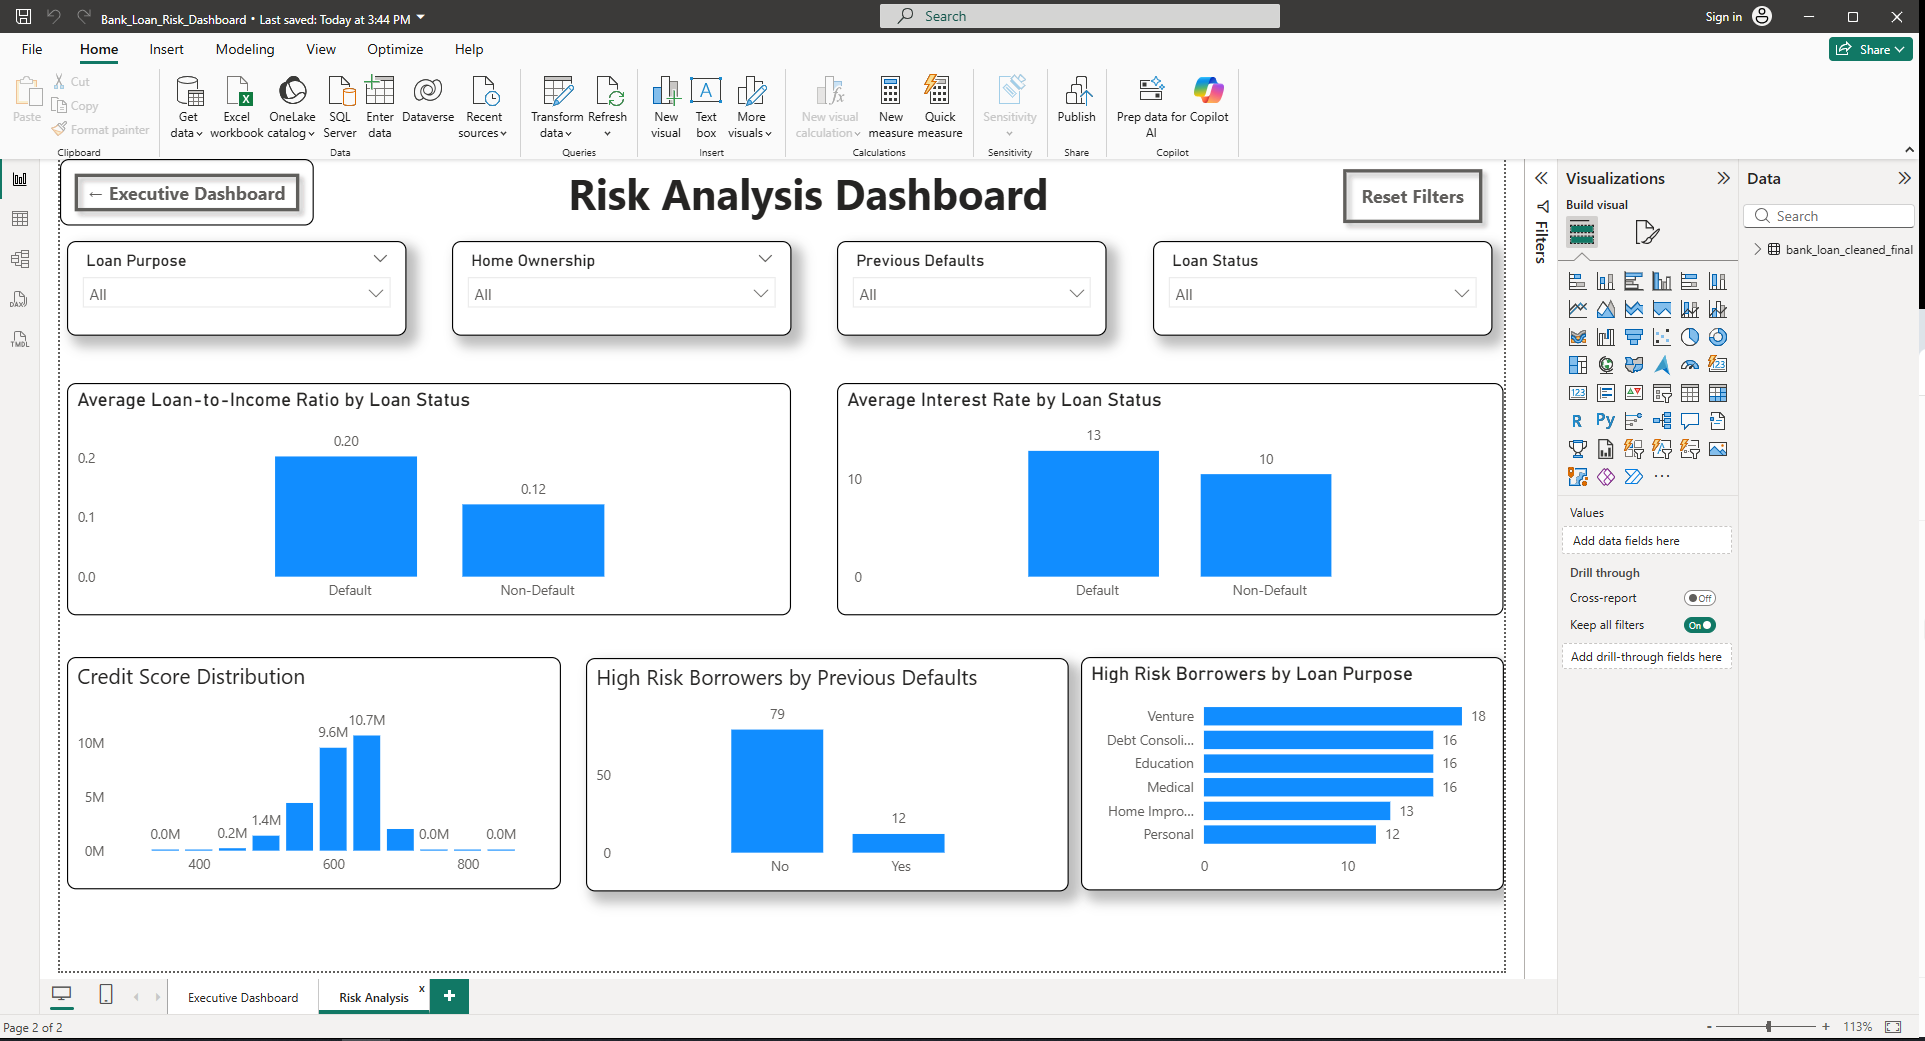

The dashboard page shown, as its layout file describes it:
{"tool":"powerbi","page":{"name":"Risk Analysis","canvas":[1280,720],"ordinal":1},"visuals":[{"type":"textbox","box":[327.2,0,673,59.4],"z":0},{"type":"slicer","fields":{"Values":["bank_loan_cleaned_final.loan_purpose"]},"box":[6.2,72.7,300.6,84.2],"z":1},{"type":"slicer","fields":{"Values":["bank_loan_cleaned_final.home_ownership"]},"box":[347.6,72.7,300.6,84.2],"z":2},{"type":"slicer","fields":{"Values":["bank_loan_cleaned_final.previous_defaults"]},"box":[689,72.7,239.4,84.2],"z":3},{"type":"slicer","fields":{"Values":["bank_loan_cleaned_final.loan_status"]},"box":[969.2,72.7,300.6,84.2],"z":4},{"type":"clusteredColumnChart","title":"Average Loan-to-Income Ratio by Loan Status","fields":{"Category":["bank_loan_cleaned_final.loan_status_label"],"Y":["bank_loan_cleaned_final.Average Loan-to-Income Ratio"]},"box":[6.2,198.6,642,205.7],"z":5},{"type":"clusteredColumnChart","title":"Average Interest Rate by Loan Status","fields":{"Category":["bank_loan_cleaned_final.loan_status_label"],"Y":["bank_loan_cleaned_final.Average Interest Rate"]},"box":[689,198.6,591.4,205.7],"z":6},{"type":"clusteredColumnChart","title":"Credit Score Distribution","fields":{"Category":["bank_loan_cleaned_final.credit_score (bins)"],"Y":["Sum(bank_loan_cleaned_final.credit_score)"]},"box":[6.2,441.6,438,205.7],"z":7},{"type":"clusteredColumnChart","title":"High Risk Borrowers by Previous Defaults","fields":{"Category":["bank_loan_cleaned_final.previous_defaults"],"Y":["bank_loan_cleaned_final.High Risk Borrowers"]},"box":[466.4,442.5,428.3,206.6],"z":8},{"type":"clusteredBarChart","title":"High Risk Borrowers by Loan Purpose","fields":{"Category":["bank_loan_cleaned_final.loan_purpose"],"Y":["bank_loan_cleaned_final.High Risk Borrowers"]},"box":[905.3,441.6,375.1,207.5],"z":9},{"type":"actionButton","box":[1128.7,0,141.5,65.8],"z":10},{"type":"actionButton","box":[0,0,225.2,59.4],"z":11}]}

Visuals, with their boxes on the page's 1280x720 design canvas (x1, y1, x2, y2). These are canvas units, not pixel positions in the 1925x1041 screenshot, which may show the page scaled, cropped or inside an application window:
textbox: 327:0:1000:59
slicer - bank_loan_cleaned_final.loan_purpose: 6:73:307:157
slicer - bank_loan_cleaned_final.home_ownership: 348:73:648:157
slicer - bank_loan_cleaned_final.previous_defaults: 689:73:928:157
slicer - bank_loan_cleaned_final.loan_status: 969:73:1270:157
"Average Loan-to-Income Ratio by Loan Status" clusteredColumnChart: 6:199:648:404
"Average Interest Rate by Loan Status" clusteredColumnChart: 689:199:1280:404
"Credit Score Distribution" clusteredColumnChart: 6:442:444:647
"High Risk Borrowers by Previous Defaults" clusteredColumnChart: 466:442:895:649
"High Risk Borrowers by Loan Purpose" clusteredBarChart: 905:442:1280:649
actionButton: 1129:0:1270:66
actionButton: 0:0:225:59
